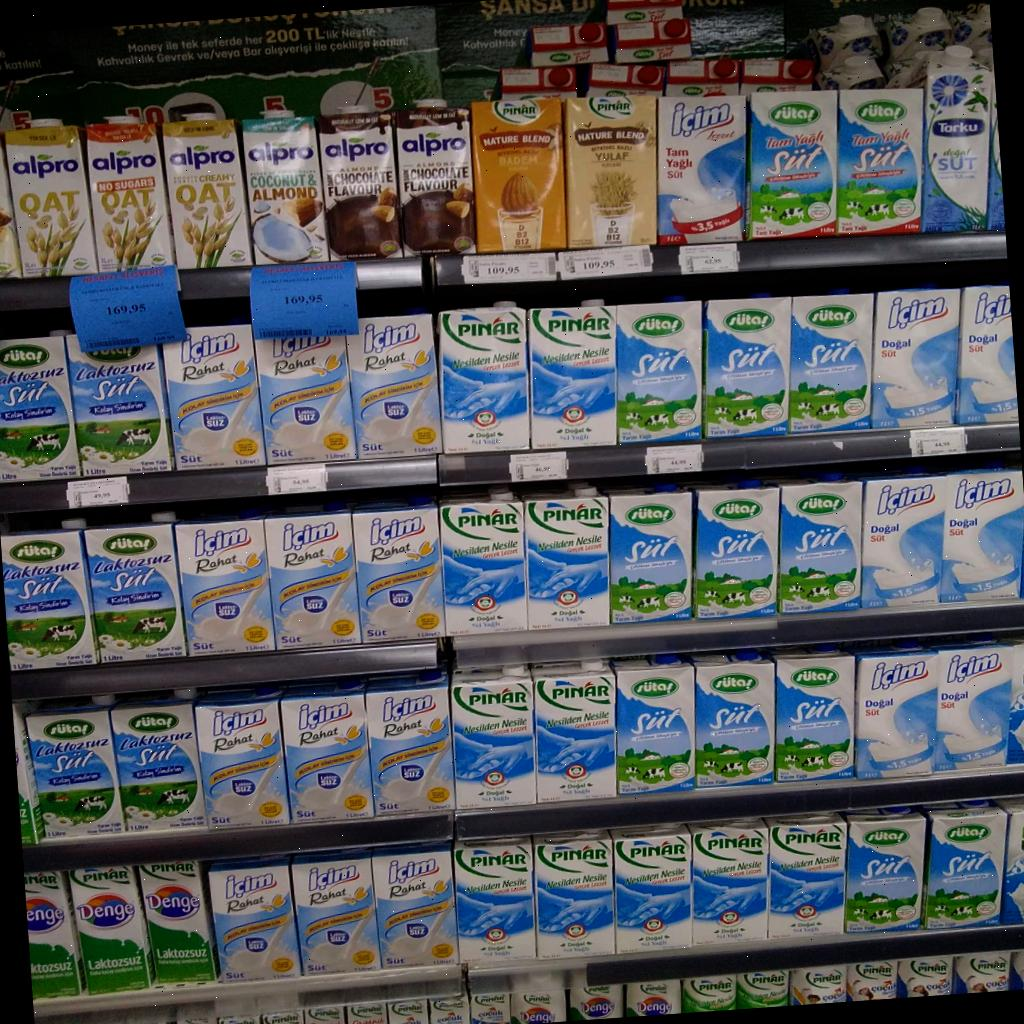price_tag: (70, 266, 186, 352), (250, 262, 358, 339), (559, 246, 653, 278), (462, 253, 557, 284), (67, 476, 130, 508), (266, 464, 327, 495), (680, 243, 739, 274), (510, 451, 568, 482), (645, 445, 703, 474), (910, 427, 967, 456)
product: (470, 98, 566, 253), (163, 323, 264, 469), (346, 309, 441, 458), (5, 124, 97, 277), (68, 337, 170, 475), (564, 96, 656, 248), (85, 523, 185, 662), (438, 302, 530, 453), (0, 529, 98, 670), (267, 503, 361, 650), (163, 114, 252, 269), (352, 495, 444, 643), (87, 116, 174, 272), (176, 518, 274, 656), (657, 95, 747, 244), (921, 46, 992, 232), (528, 300, 616, 450), (748, 91, 837, 239), (27, 705, 124, 839), (111, 696, 205, 832), (195, 693, 289, 829), (318, 112, 404, 260), (836, 89, 923, 235), (256, 336, 356, 463), (242, 117, 328, 264), (704, 293, 791, 438), (366, 670, 453, 815), (871, 287, 960, 428), (439, 492, 527, 634), (617, 297, 702, 443), (395, 101, 475, 256), (789, 288, 874, 433), (451, 665, 536, 810), (282, 683, 371, 821), (693, 480, 780, 619), (0, 335, 81, 482), (609, 483, 693, 624), (778, 473, 862, 613), (533, 661, 616, 802), (612, 654, 695, 794), (525, 492, 609, 630), (209, 856, 300, 983), (694, 649, 775, 788), (292, 849, 381, 975), (774, 644, 855, 782), (940, 470, 1024, 603), (861, 476, 946, 607), (855, 646, 937, 779), (69, 866, 153, 995), (372, 842, 458, 968), (533, 830, 615, 959), (933, 642, 1013, 772), (923, 805, 1006, 930), (453, 837, 536, 961), (689, 819, 769, 946), (844, 811, 927, 933), (613, 823, 692, 951), (765, 814, 845, 937), (139, 861, 218, 984), (957, 282, 1018, 425), (24, 872, 84, 998), (0, 134, 22, 279), (1007, 637, 1024, 764), (1013, 793, 1024, 931), (384, 401, 408, 420)
